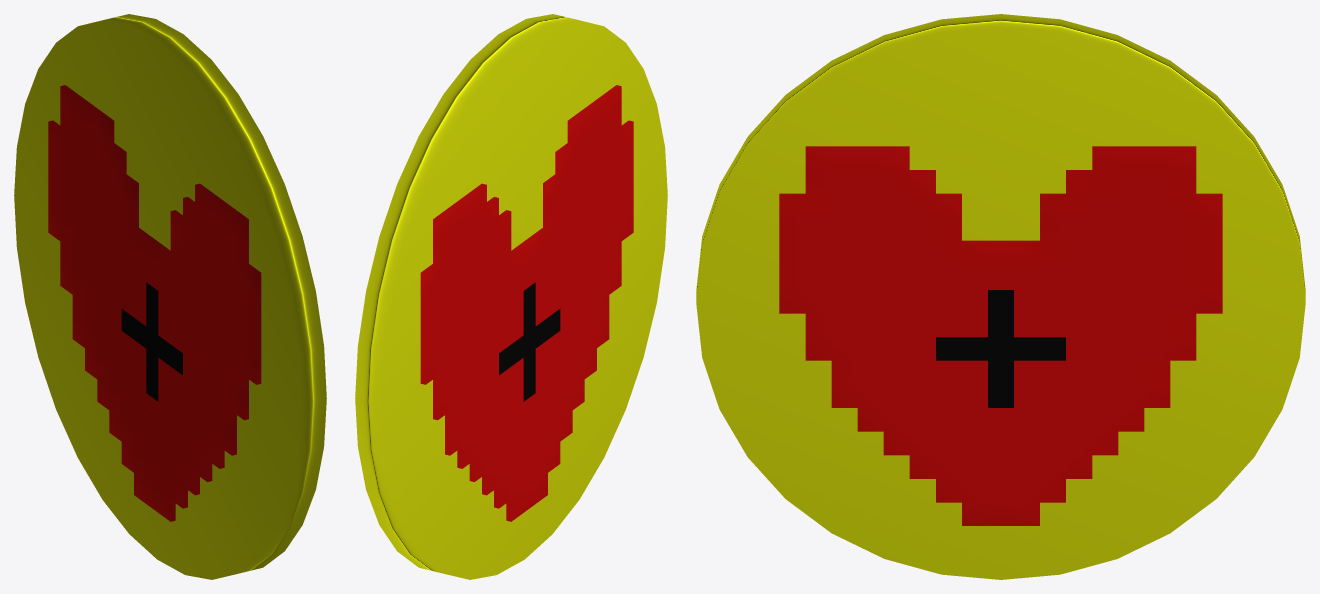
Rendered from maxhealthicon2.fbx.
The picture shows the model from 3 angles, left to right: view 1: azimuth 30°, elevation 25°; view 2: azimuth 150°, elevation 25°; view 3: azimuth 270°, elevation 25°; orthographic projection. The views are drawn at different scales.
Visible parts, largest first — view 1: Cylinder; view 2: Cylinder; view 3: Cylinder.
Part boxes in pixels (x1=…): Cylinder: x1=14, y1=14, x2=326, y2=579; Cylinder: x1=355, y1=14, x2=667, y2=579; Cylinder: x1=696, y1=14, x2=1305, y2=579.
Bounding box in the file's own units: 26.1 × 368 × 368.
